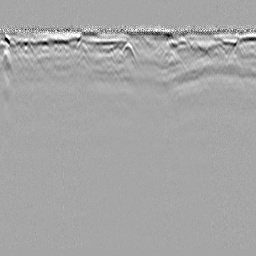cavity: (120, 41, 138, 60)
